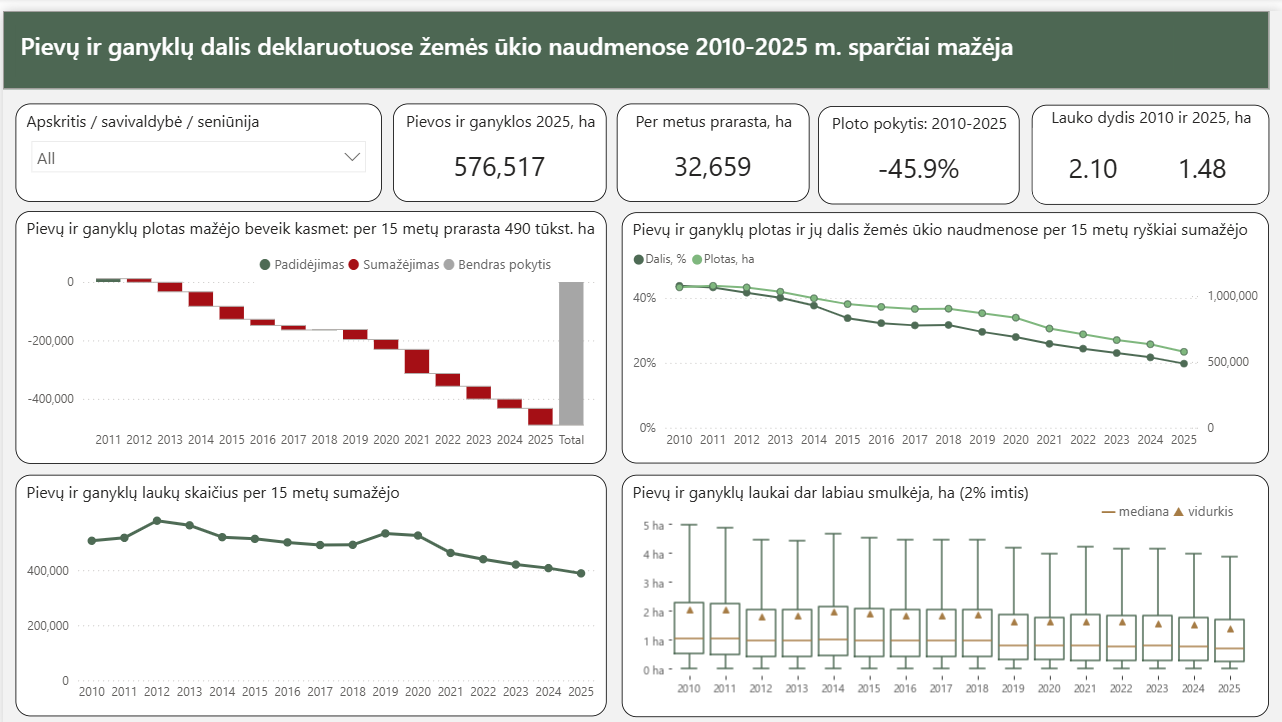

The dashboard page shown, as its layout file describes it:
{"tool":"powerbi","page":{"name":"1. Pievų ir ganyklų mažėjimas Lietuvoje","canvas":[1280,720],"ordinal":0},"visuals":[{"type":"shape","box":[0,0,1266.7,78.3],"z":0},{"type":"textbox","box":[12,14,1158,52],"z":1000},{"type":"cardVisual","title":"Pievos ir ganyklos 2025, ha","fields":{"Data":["_measures.PGha2025text"]},"box":[390,92.5,213.8,98.8],"z":2000},{"type":"cardVisual","title":"Ploto pokytis: 2010-2025","fields":{"Data":["_measures.PGproc20102025"]},"box":[815,95,201.2,98.8],"z":3000},{"type":"slicer","title":"Apskritis / savivaldybė / seniūnija","fields":{"Values":["LTterit.Apskritis Hierarchy.Apskritis","LTterit.Apskritis Hierarchy.rajonas","LTterit.Apskritis Hierarchy.seniunija"]},"box":[12.5,92.5,366.2,98.8],"z":4000},{"type":"lineChart","fields":{"Category":["pg20102025laukai.metai"],"Y":["Sum(pg20102025laukai.laukai_n)"]},"box":[12.9,464.3,591.4,241.4],"z":5000},{"type":"pythonVisual","title":"Pievų ir ganyklų laukai dar labiau smulkėja, ha (2% imtis)","fields":{"Values":["pg20102025sample.METAI","pg20102025sample.PLOTAS","pg20102025sample.LAUKO_ID"]},"box":[618.8,463.8,647.5,242.5],"z":6000},{"type":"lineChart","fields":{"Category":["final20102025.metai"],"Y":["_measures.PGdalis"],"Y2":["_measures.PGha"]},"box":[618.8,201.2,647.5,251.2],"z":7000},{"type":"cardVisual","title":"Lauko dydis 2010 ir 2025, ha","fields":{"Data":["_measures.Lauko_dydis_2010","_measures.Lauko_dydis_2025"]},"box":[1028.8,93.8,237.5,100],"z":8000},{"type":"waterfallChart","fields":{"Category":["final20102025.metai"],"Y":["_measures.PG_pokytis_permetus"]},"box":[12.9,200,591.4,252.9],"z":9000},{"type":"textbox","box":[251.2,227.5,303.8,47.5],"z":10000},{"type":"textbox","box":[1093.8,475,151.2,45],"z":11000},{"type":"cardVisual","title":"Per metus prarasta, ha","fields":{"Data":["_measures.HA_lost_per_metus"]},"box":[613.8,92.5,192.5,98.8],"z":12000}]}

Visuals, with their boxes in screenshot pixels (x1, y1, x2, y2), scaled from the page's 1280x720 canvas onto the 1282x722 screenshot:
shape: bbox=(0, 0, 1269, 79)
textbox: bbox=(12, 14, 1172, 66)
"Pievos ir ganyklos 2025, ha" cardVisual: bbox=(391, 93, 605, 192)
"Ploto pokytis: 2010-2025" cardVisual: bbox=(816, 95, 1018, 194)
"Apskritis / savivaldybė / seniūnija" slicer: bbox=(13, 93, 379, 192)
lineChart - pg20102025laukai.metai x Sum(pg20102025laukai.laukai_n): bbox=(13, 466, 605, 708)
"Pievų ir ganyklų laukai dar labiau smulkėja, ha (2% imtis)" pythonVisual: bbox=(620, 465, 1268, 708)
lineChart - final20102025.metai x _measures.PGdalis: bbox=(620, 202, 1268, 454)
"Lauko dydis 2010 ir 2025, ha" cardVisual: bbox=(1030, 94, 1268, 194)
waterfallChart - final20102025.metai x _measures.PG_pokytis_permetus: bbox=(13, 201, 605, 454)
textbox: bbox=(252, 228, 556, 276)
textbox: bbox=(1096, 476, 1247, 521)
"Per metus prarasta, ha" cardVisual: bbox=(615, 93, 808, 192)
